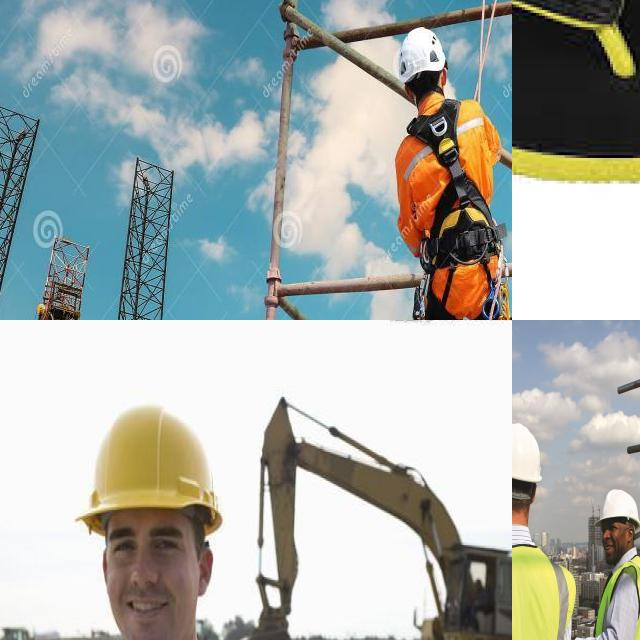Harness: (408, 99, 505, 272)
No_Ear-Protection: (194, 534, 218, 603), (625, 523, 636, 545)
No_Glasses: (102, 519, 190, 573), (600, 520, 620, 537)
Sandals: (512, 0, 640, 300)
face_nomask: (103, 506, 207, 640)
head_helmet: (82, 402, 224, 518), (512, 421, 542, 485), (593, 489, 640, 528)
person: (34, 385, 309, 640), (512, 440, 575, 640), (581, 492, 640, 640)
vest: (588, 557, 640, 640)
